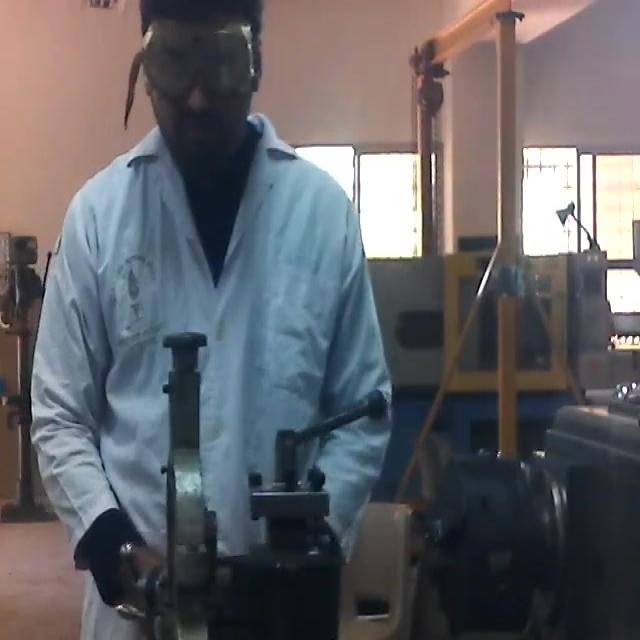googles: (138, 12, 258, 105)
labcoat: (26, 103, 398, 640)
